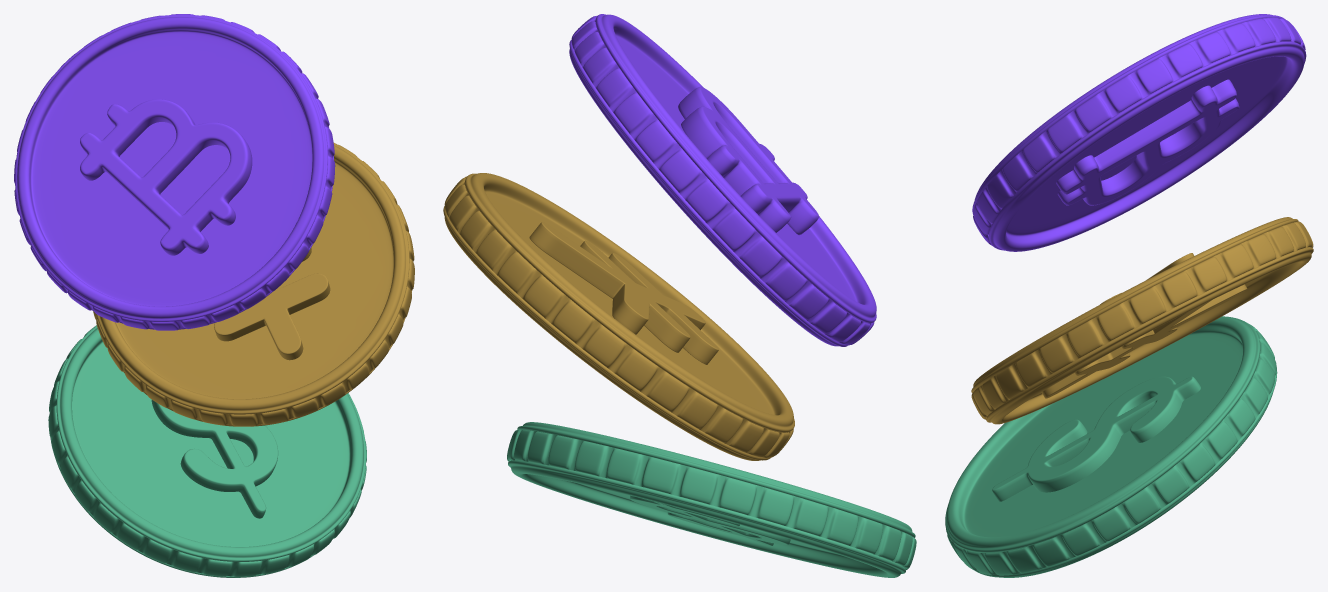
The model's file is three-coins-animated-3d-icon-1631808681931.glb.
The picture shows the model from 3 angles, left to right: view 1: azimuth 30°, elevation 25°; view 2: azimuth 150°, elevation 25°; view 3: azimuth 270°, elevation 25°; orthographic projection. The views are drawn at different scales.
Visible parts, largest first — view 1: Coin.024, Coin.016, Coin.020, Bitcoin.010, Dollar.003, Yen.002; view 2: Coin.020, Coin.024, Coin.016, Bitcoin.010, Yen.002, Dollar.003; view 3: Coin.016, Coin.024, Coin.020, Dollar.003, Bitcoin.010, Yen.002.
Part boxes in pixels (box(x1,y1,x2,y2)): Coin.024: box(14, 14, 335, 330); Coin.016: box(48, 325, 366, 577); Coin.020: box(93, 143, 414, 426); Bitcoin.010: box(80, 99, 252, 255); Dollar.003: box(151, 400, 278, 518); Yen.002: box(214, 247, 330, 360); Coin.020: box(443, 173, 794, 460); Coin.024: box(569, 14, 876, 346); Coin.016: box(507, 422, 916, 577); Bitcoin.010: box(678, 86, 819, 235); Yen.002: box(529, 222, 718, 364); Dollar.003: box(630, 495, 790, 545); Coin.016: box(945, 316, 1277, 577); Coin.024: box(972, 14, 1306, 251); Coin.020: box(971, 217, 1313, 424); Dollar.003: box(992, 376, 1200, 501); Bitcoin.010: box(1056, 79, 1239, 205); Yen.002: box(1041, 253, 1247, 398).
Size of the model in its own units: 2.43 by 3.27 by 2.02.
